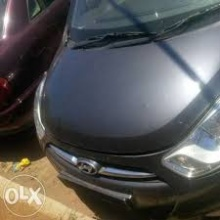no damage: (32, 1, 220, 220), (1, 2, 68, 140)
